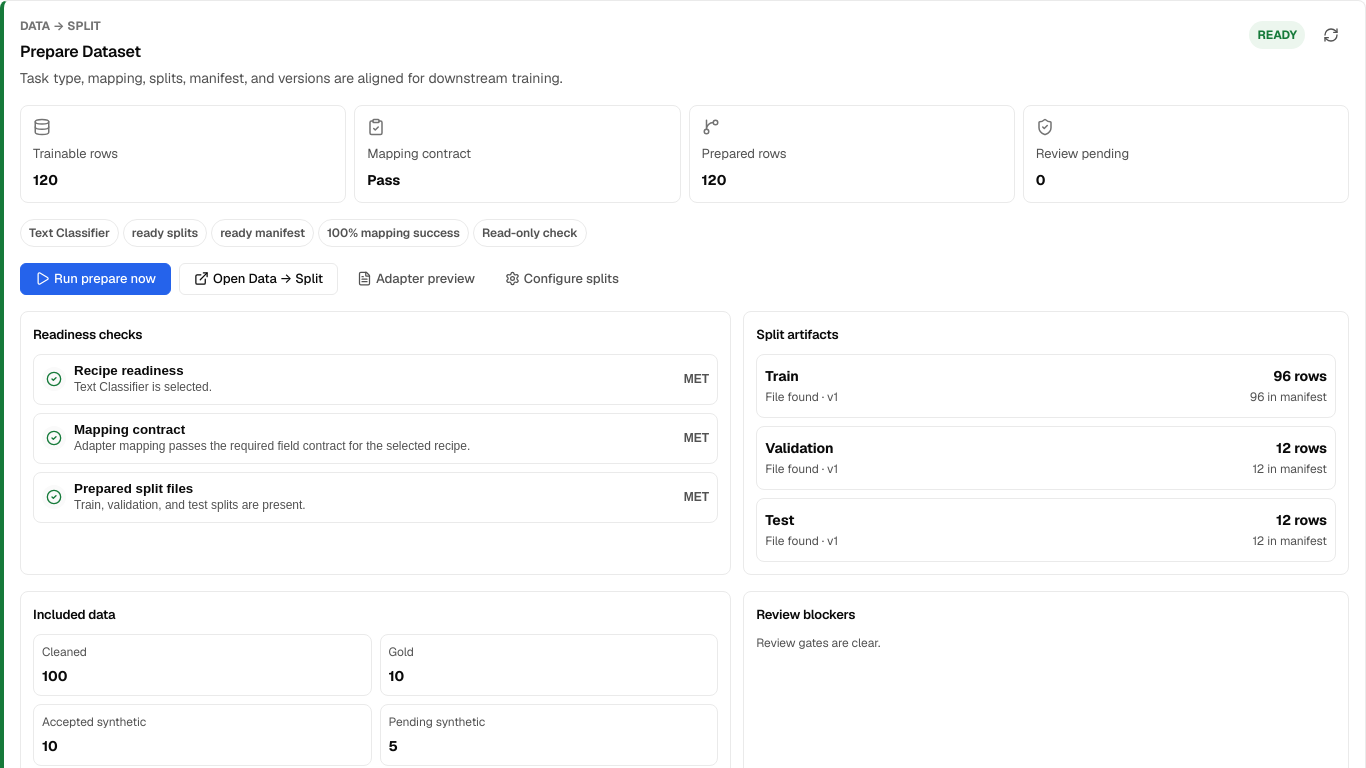
DataStudioPrepareDatasetPanel › shows the prepared warnings (pinned test split) under the provenance line
The width and height of the screenshot is (1366, 768).
Step 1. Click the button with test id "data-studio-prepare-run" → x=96, y=279, box [20,263,171,295]
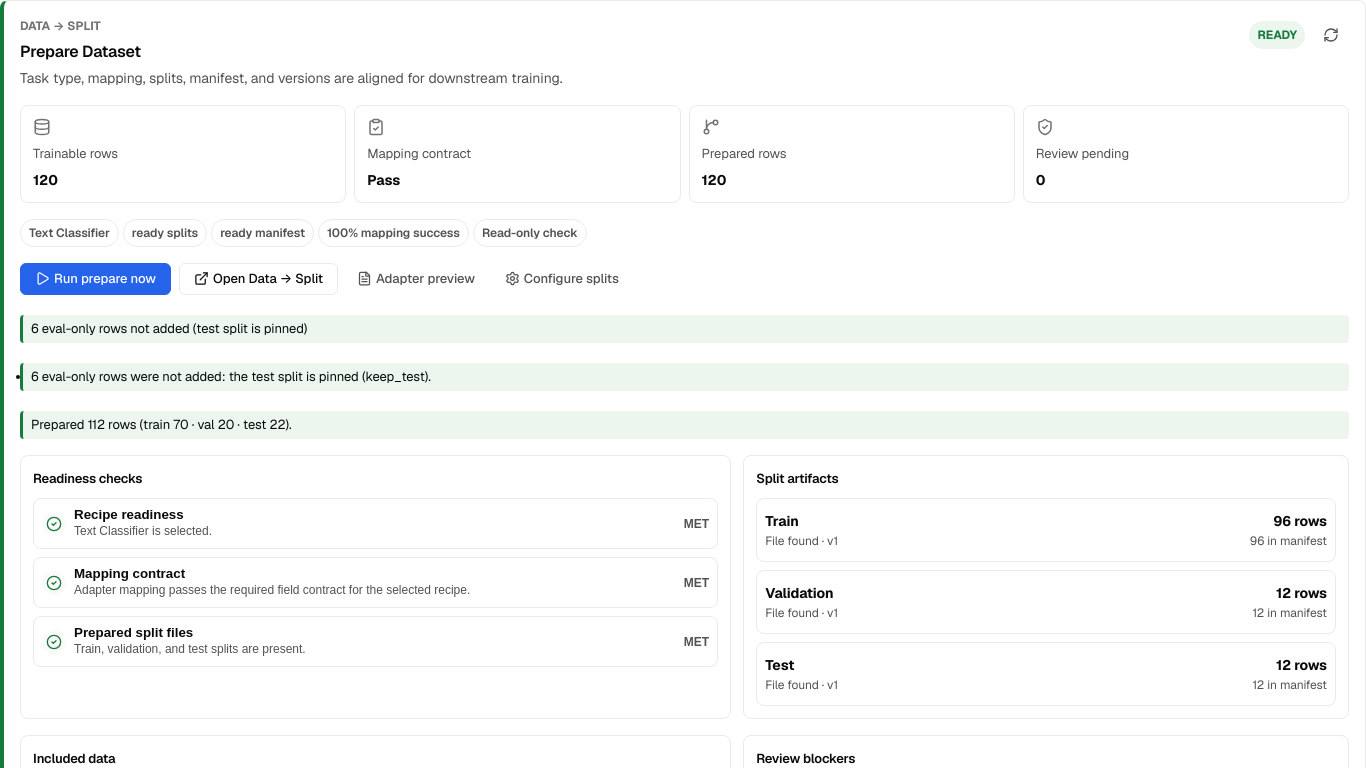
Now the list with test id "data-studio-prepare-provenance-warnings" shows "the test split is pinned", box [31,368,431,385]
Now the text with test id "data-studio-prepare-provenance" reads "6 eval-only rows not added (test split is pinned)", box [31,320,307,337]
